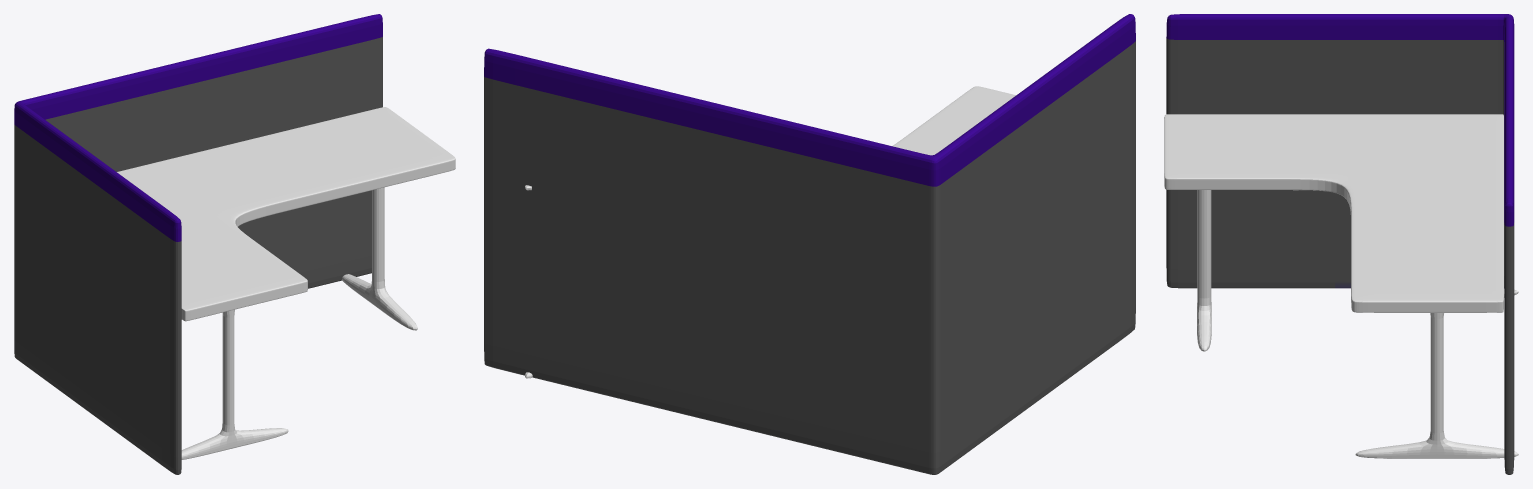
Rendered from OfficeDesk.fbx.
3 views of the same model, side by side, from view 1: azimuth 30°, elevation 25°; view 2: azimuth 150°, elevation 25°; view 3: azimuth 270°, elevation 25° (orthographic). The views are drawn at different scales.
Parts seen in each view (by area): view 1: Cube.003, Cube, Cube.001, Cube.002; view 2: Cube.003, Cube; view 3: Cube.003, Cube, Cube.002, Cube.001.
Part boxes in pixels (<box>): Cube.003: <box>14,14,382,474</box>; Cube: <box>117,107,455,321</box>; Cube.001: <box>181,309,288,459</box>; Cube.002: <box>342,187,417,330</box>; Cube.003: <box>484,14,1135,474</box>; Cube: <box>892,86,1015,155</box>; Cube.003: <box>1166,14,1514,474</box>; Cube: <box>1164,114,1503,312</box>; Cube.002: <box>1355,289,1518,458</box>; Cube.001: <box>1197,190,1211,351</box>.
Size of the model in its own units: 594 by 395 by 464.
